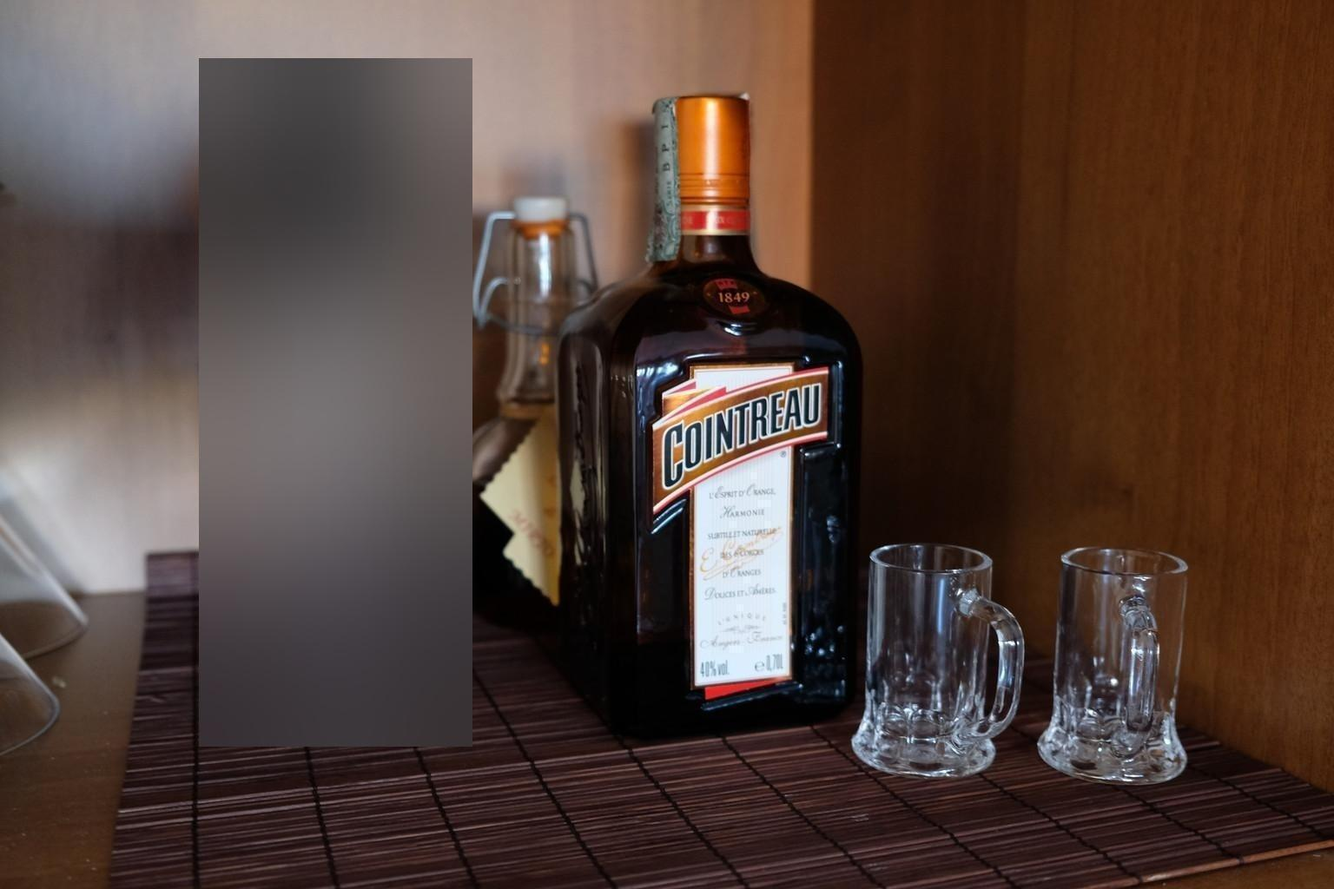bottle-glass: (545, 84, 870, 739)
glass-mug: (847, 538, 1030, 782), (1039, 538, 1199, 782)
